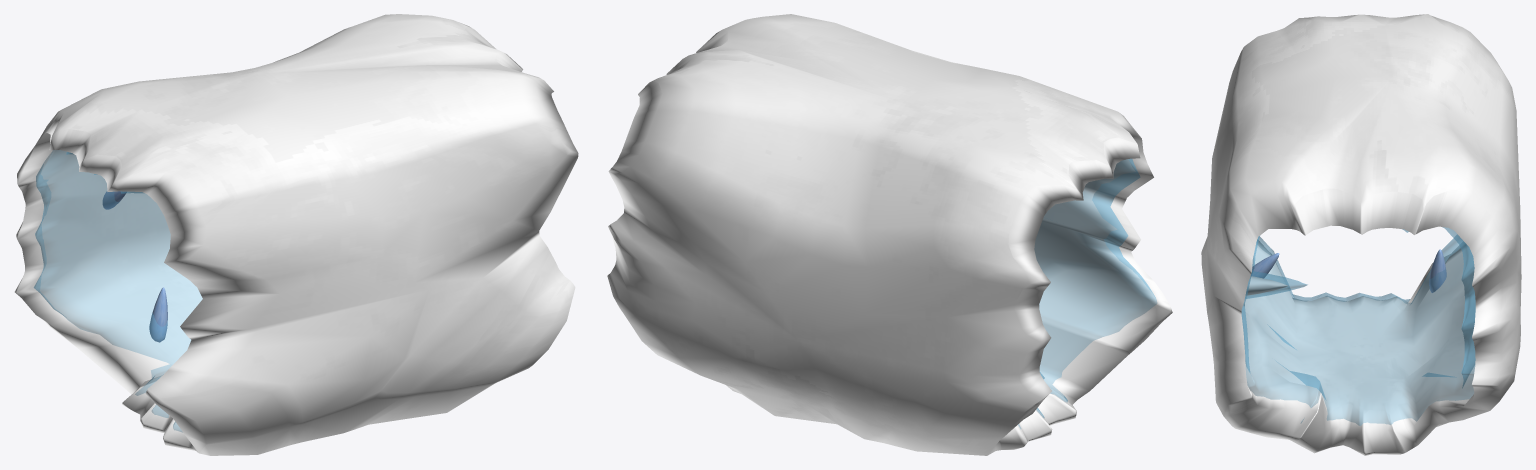
File: Winter tunnle.fbx
3 views of the same model, side by side, from view 1: azimuth 30°, elevation 25°; view 2: azimuth 150°, elevation 25°; view 3: azimuth 270°, elevation 25° (orthographic). The views are drawn at different scales.
Parts seen in each view (by area): view 1: pCube9; view 2: pCube9; view 3: pCube9.
Part boxes in pixels (x1,y1,x2,y2): pCube9: (14,14,578,455); pCube9: (607,14,1172,455); pCube9: (1201,14,1521,455).
Size of the model in its own units: 54.13 by 38.04 by 35.59.
